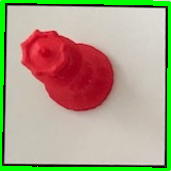Red Queen: (18, 25, 118, 113)
